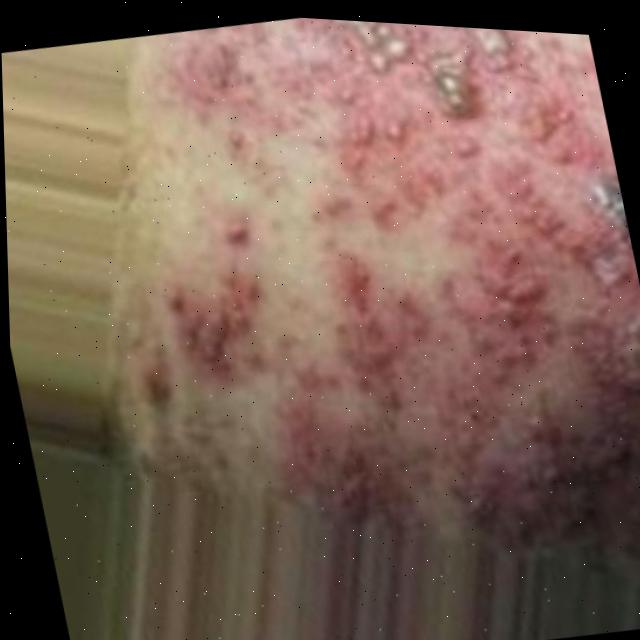Shingles: (123, 7, 640, 522)
